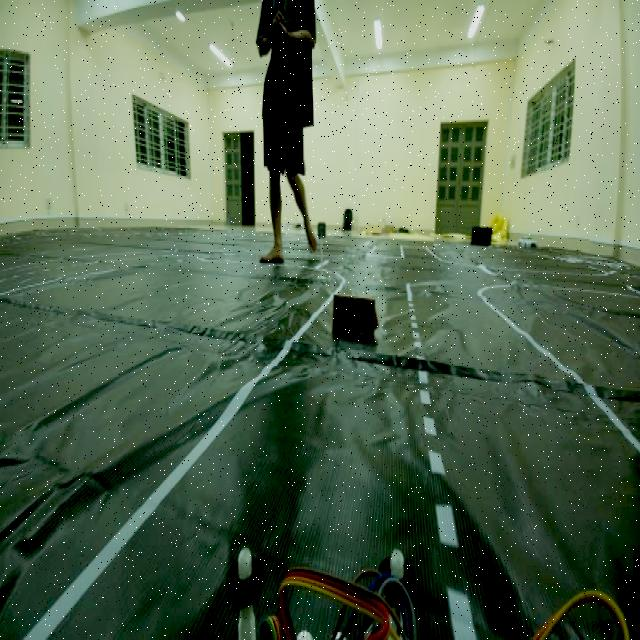roadblock: (326, 289, 388, 356)
